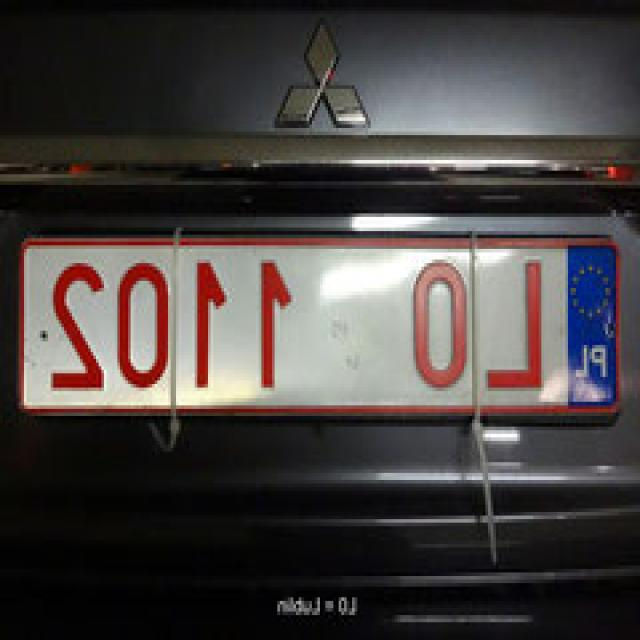pl_license_plate: (24, 238, 621, 406)
